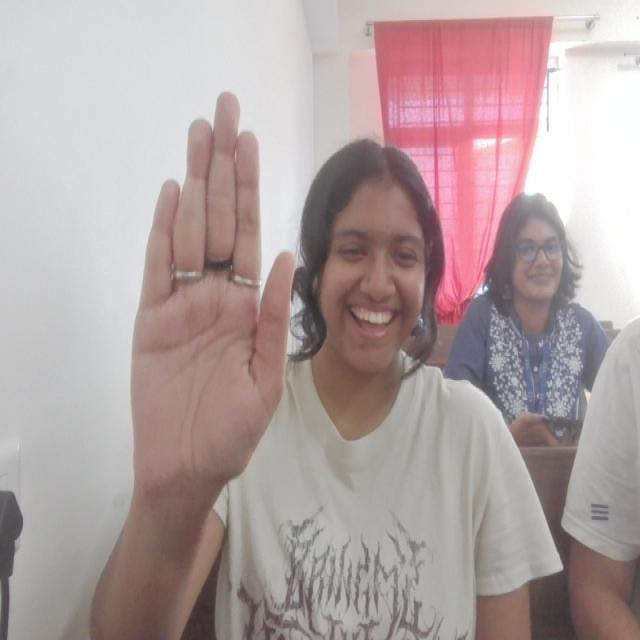hello: (128, 87, 296, 504)
